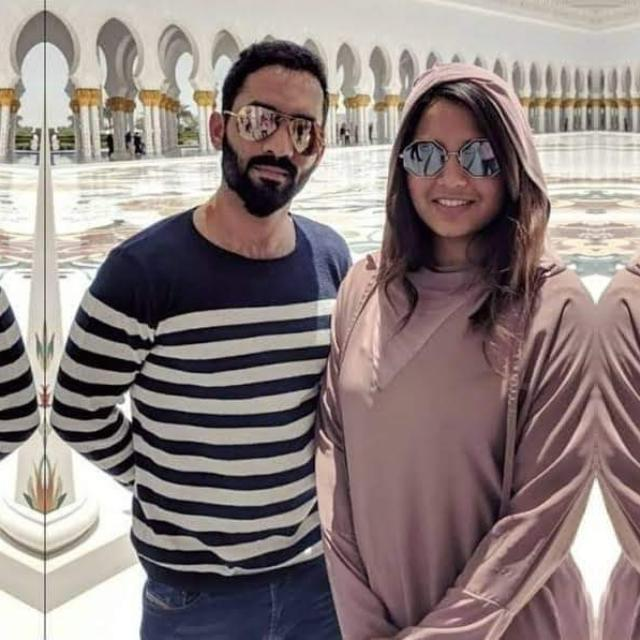person: (93, 19, 349, 640), (345, 51, 595, 640), (595, 51, 640, 640)
